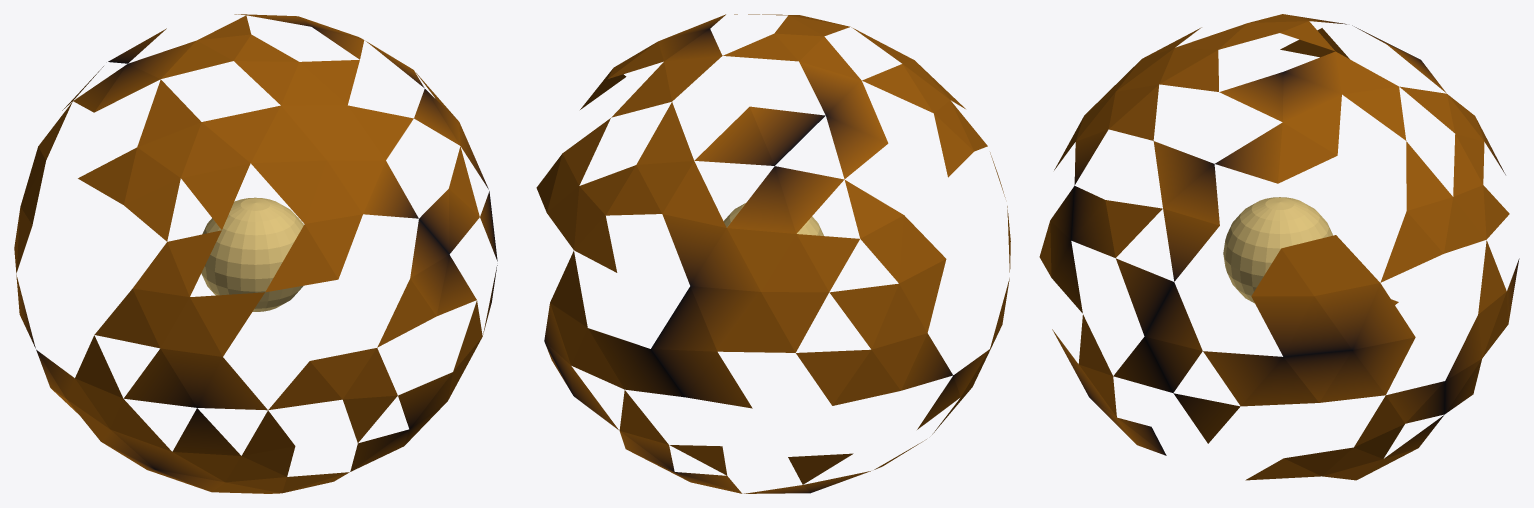
Rendered from dyson.glb.
The picture shows the model from 3 angles, left to right: view 1: azimuth 30°, elevation 25°; view 2: azimuth 150°, elevation 25°; view 3: azimuth 270°, elevation 25°; orthographic projection.
Parts seen in each view (by area): view 1: dyson; view 2: dyson; view 3: dyson.
Boxes of the visible parts, <box> form: dyson: <box>14,14,497,493</box>; dyson: <box>536,14,1010,493</box>; dyson: <box>1039,14,1519,480</box>.
Bounding box in the file's own units: 1.93 × 1.99 × 1.98.
